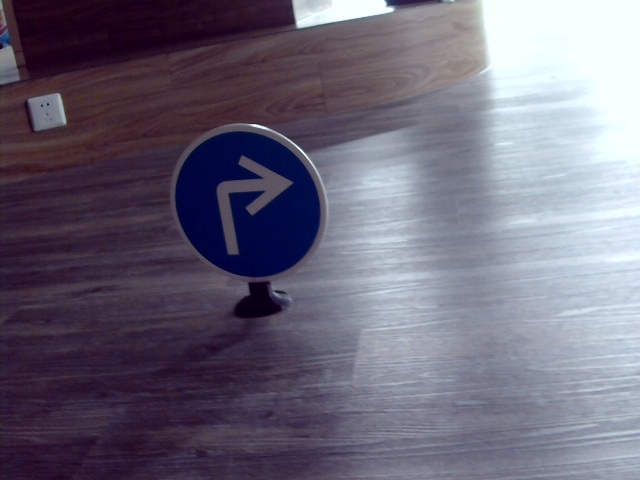turn_right: (202, 152, 294, 266)
